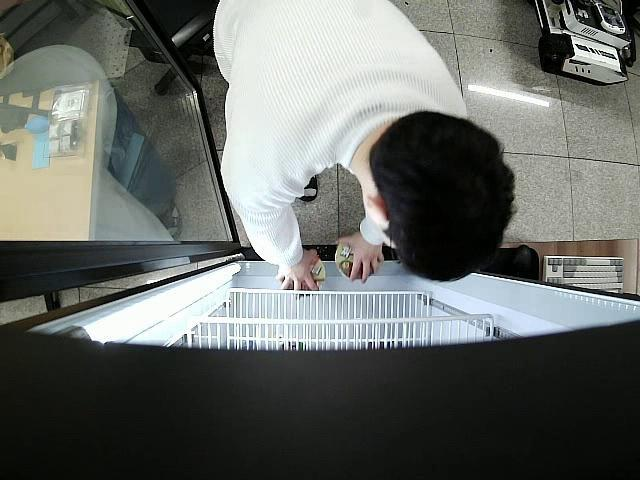03_chapagetti_L: (332, 243, 372, 280), (290, 257, 326, 294)
